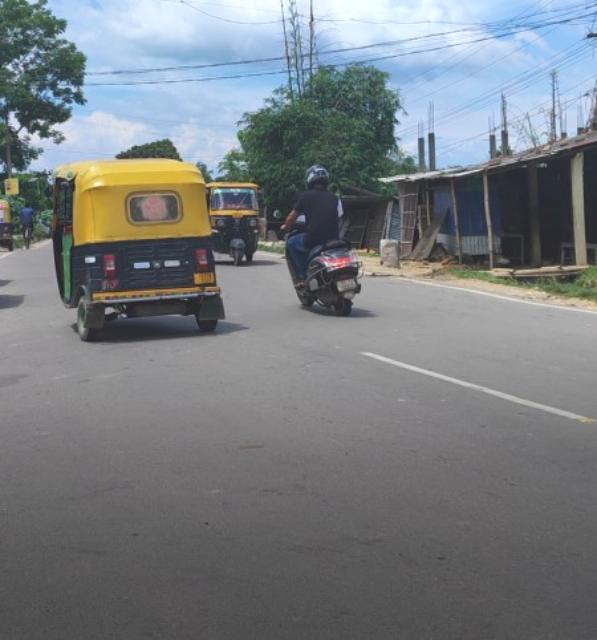licensePlate: (287, 161, 366, 312), (338, 276, 362, 291)
withHelmet: (302, 165, 332, 192)
